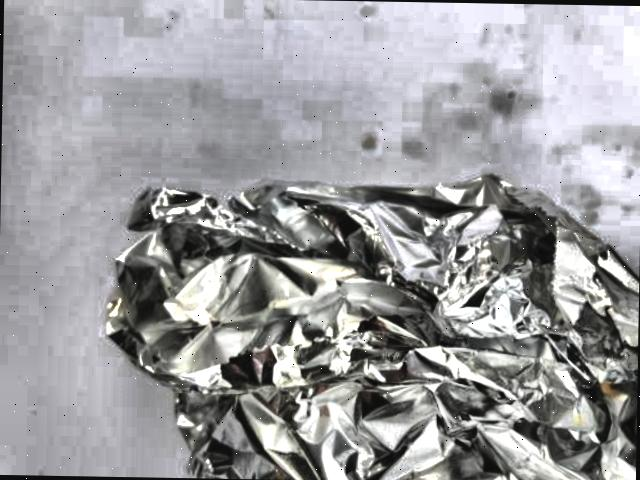Almennt: (92, 144, 640, 480)
